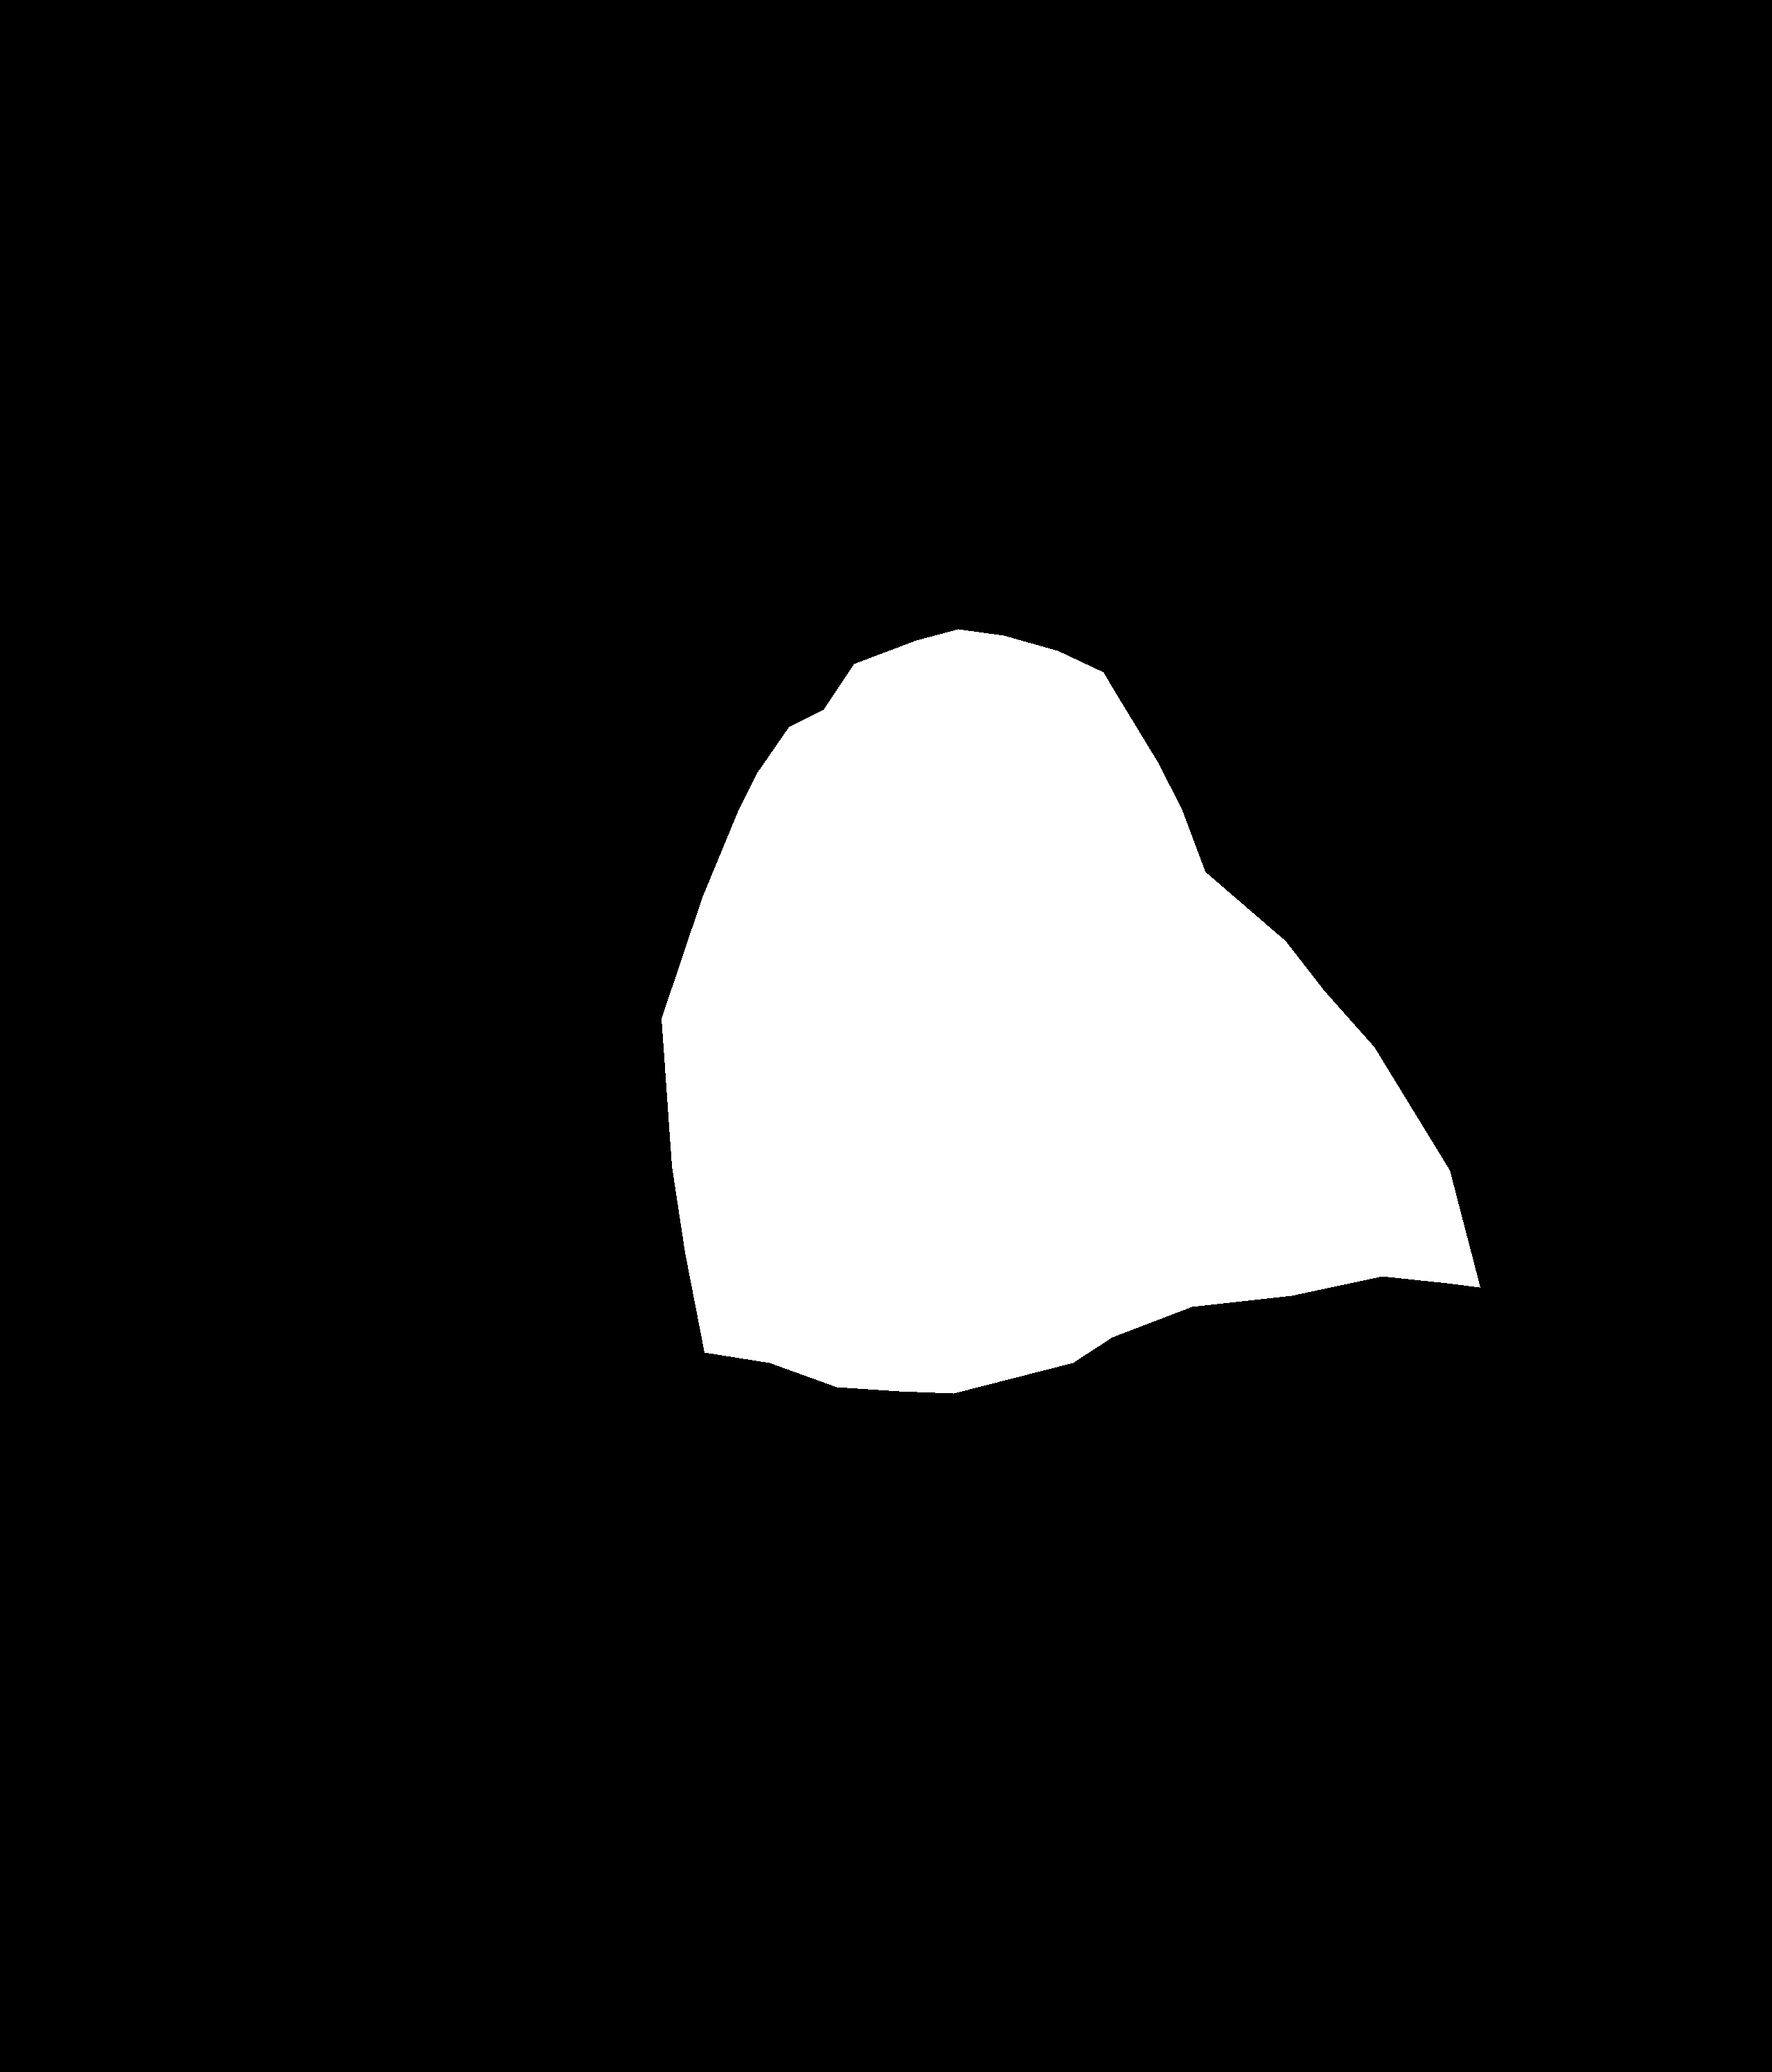heart: (661, 629, 1480, 1394)
left_lung: (102, 69, 745, 1438)
right_lung: (953, 86, 1679, 1416)
